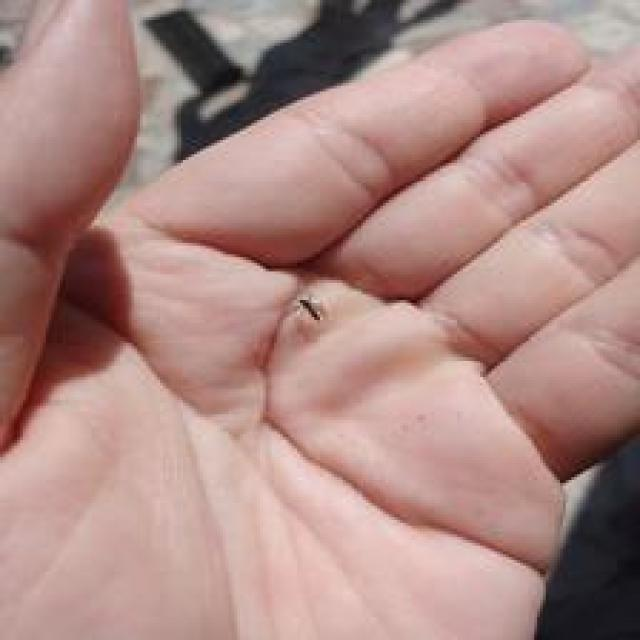Aedes albopictus: (141, 0, 476, 166)
